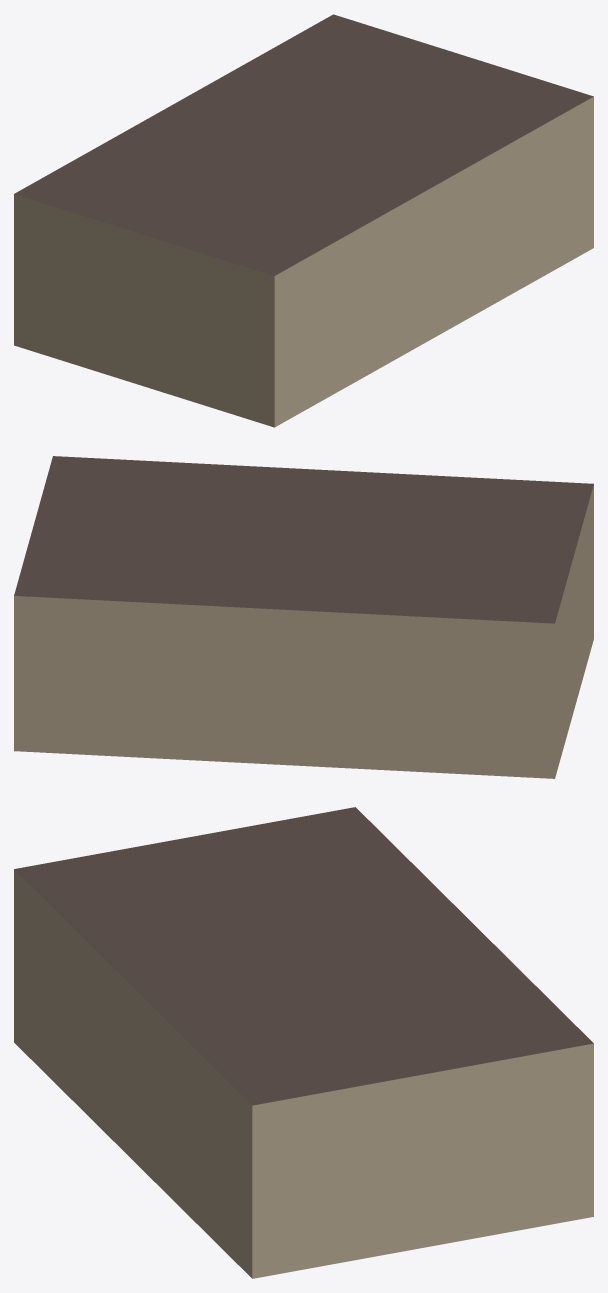
3 views of the same model, one above another, from view 1: azimuth 30°, elevation 25°; view 2: azimuth 150°, elevation 25°; view 3: azimuth 270°, elevation 25° (orthographic). The views are drawn at different scales.
Parts seen in each view (by area): view 1: HP-w373833576; view 2: HP-w373833576; view 3: HP-w373833576.
Part boxes in pixels (x1,y1,x2,y2): HP-w373833576: [14, 14, 593, 427]; HP-w373833576: [14, 456, 593, 778]; HP-w373833576: [14, 807, 593, 1278].
Bounding box in the file's own units: 33.25 × 9 × 27.3.
